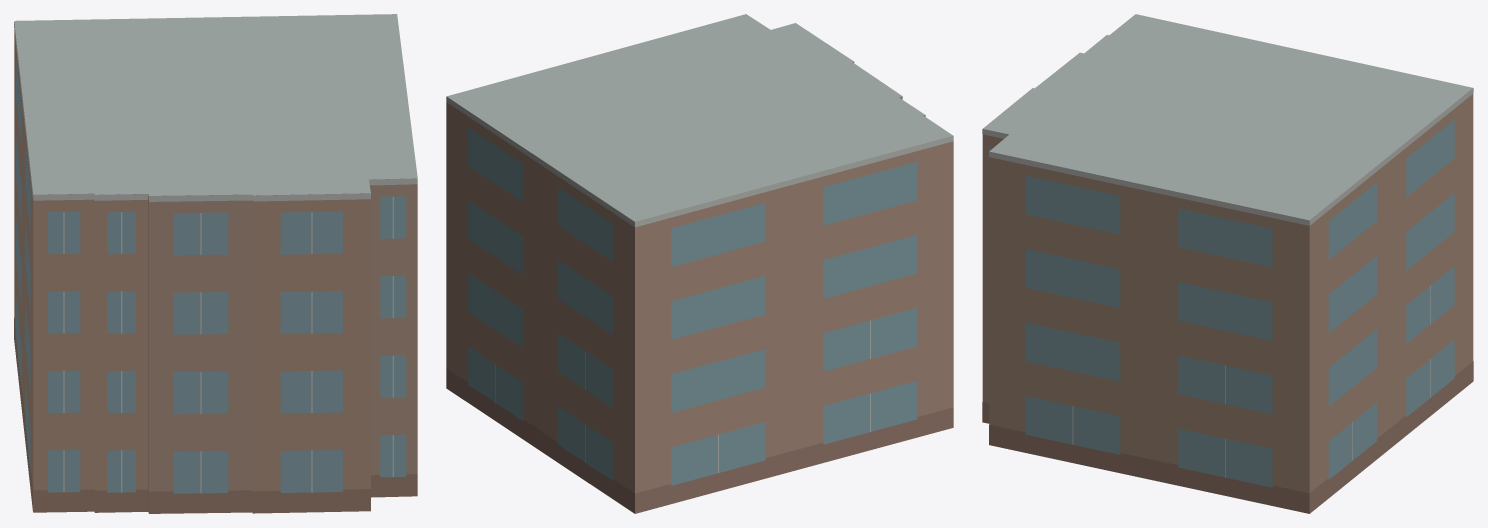
Rendered from survey-upis-32965620.glb.
3 views of the same model, side by side, from view 1: azimuth 30°, elevation 25°; view 2: azimuth 150°, elevation 25°; view 3: azimuth 270°, elevation 25° (orthographic). The views are drawn at different scales.
Visible parts, largest first — view 1: survey-upis-32965620.tmp; view 2: survey-upis-32965620.tmp; view 3: survey-upis-32965620.tmp.
Part boxes in pixels (bbox=[...]): survey-upis-32965620.tmp: bbox=[14, 14, 417, 513]; survey-upis-32965620.tmp: bbox=[446, 14, 953, 513]; survey-upis-32965620.tmp: bbox=[982, 14, 1473, 513].
Size of the model in its own units: 19.62 by 13 by 19.72.
